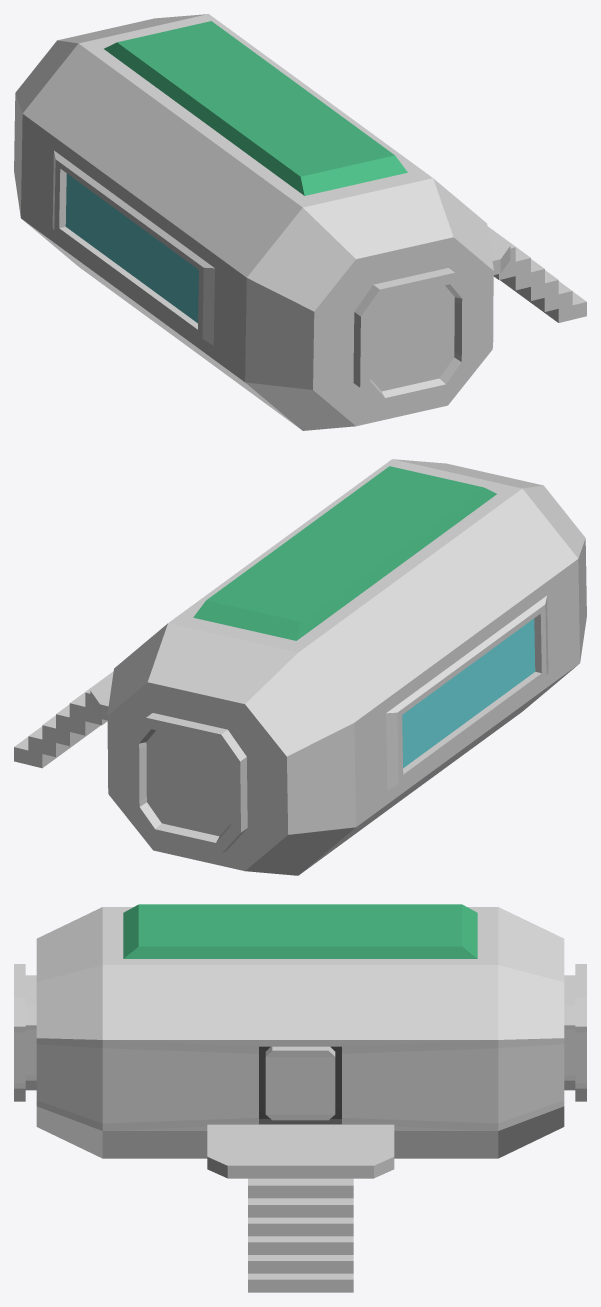
Rendered from Tonel2.fbx.
3 views of the same model, one above another, from view 1: azimuth 30°, elevation 25°; view 2: azimuth 150°, elevation 25°; view 3: azimuth 270°, elevation 25° (orthographic). The views are drawn at different scales.
Parts seen in each view (by area): view 1: Tonel2, Cube; view 2: Tonel2, Cube; view 3: Tonel2, Cube.
Part boxes in pixels (bbox=[...]): Tonel2: bbox=[14, 14, 493, 430]; Cube: bbox=[487, 226, 586, 322]; Tonel2: bbox=[107, 459, 586, 875]; Cube: bbox=[14, 671, 113, 768]; Tonel2: bbox=[14, 904, 586, 1158]; Cube: bbox=[207, 1124, 394, 1292].
Size of the model in its own units: 134 by 80.35 by 175.
